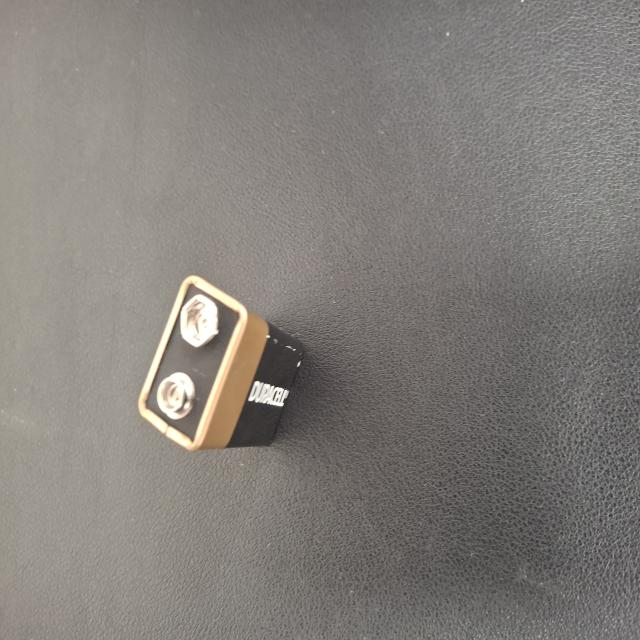9V: (200, 443, 343, 640)
